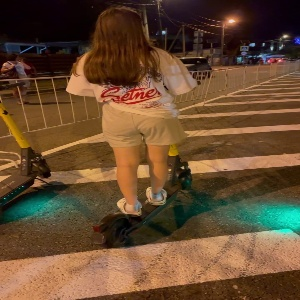human on a scooter: (65, 5, 201, 249)
